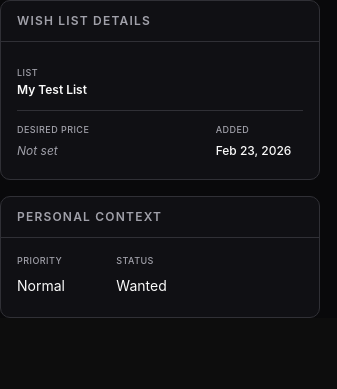
WishlistItemSidebar — US3 Desired Price inline edit › entering non-numeric value shows inline error
This screenshot has width=337, height=389.
Click the button with aria-label "Edit Desired Price". click: (57, 150)
box: [13,138,100,162]
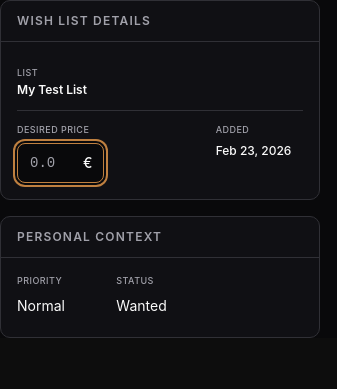
Type "abc" into the field. click: (61, 162)
box: [17,142,104,182]
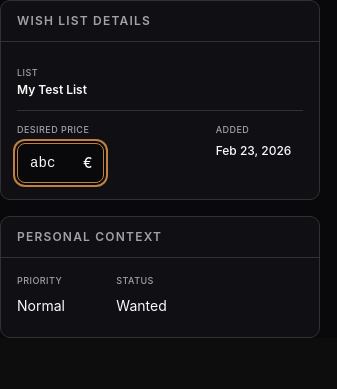
Press Enter
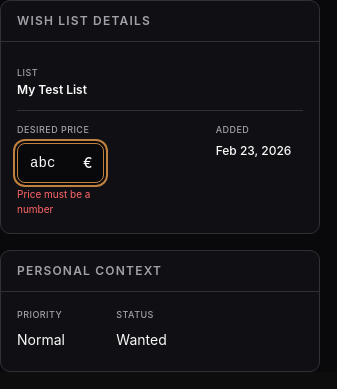
Check: the text "Price must be a number" is shown, box [17,188,90,214]
